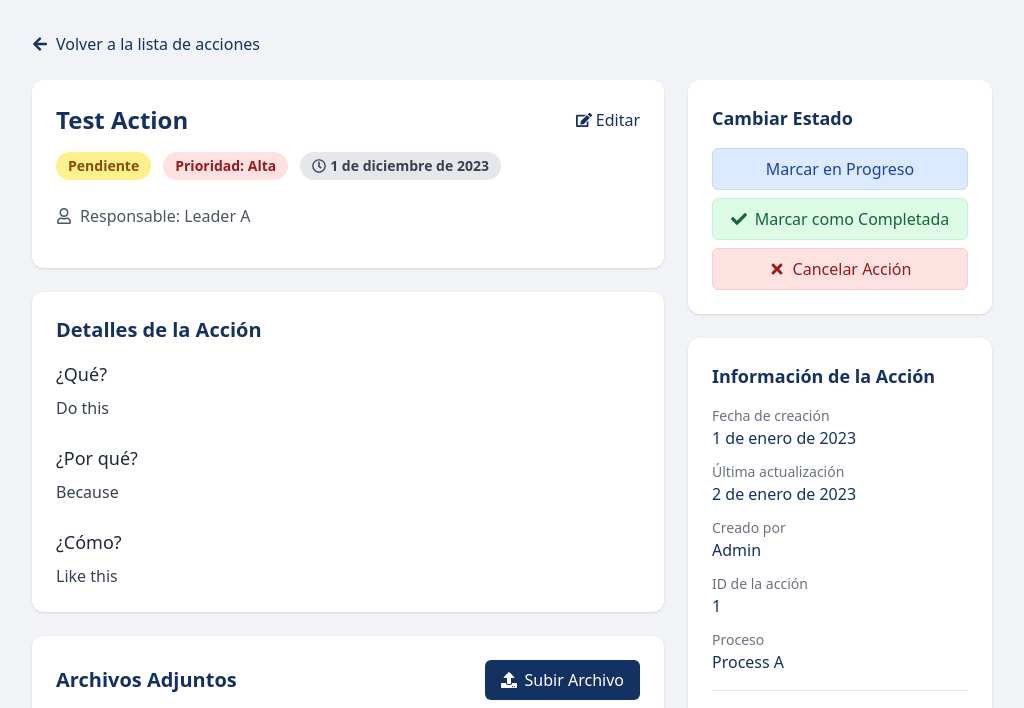
Scenario: ActionDetail › should toggle edit mode and save changes
Expected: the heading "Test Action" is shown, [56,104,188,136]
Note: Enter edit mode
Click the button "Editar".
click(608, 120)  # box [576,108,640,132]
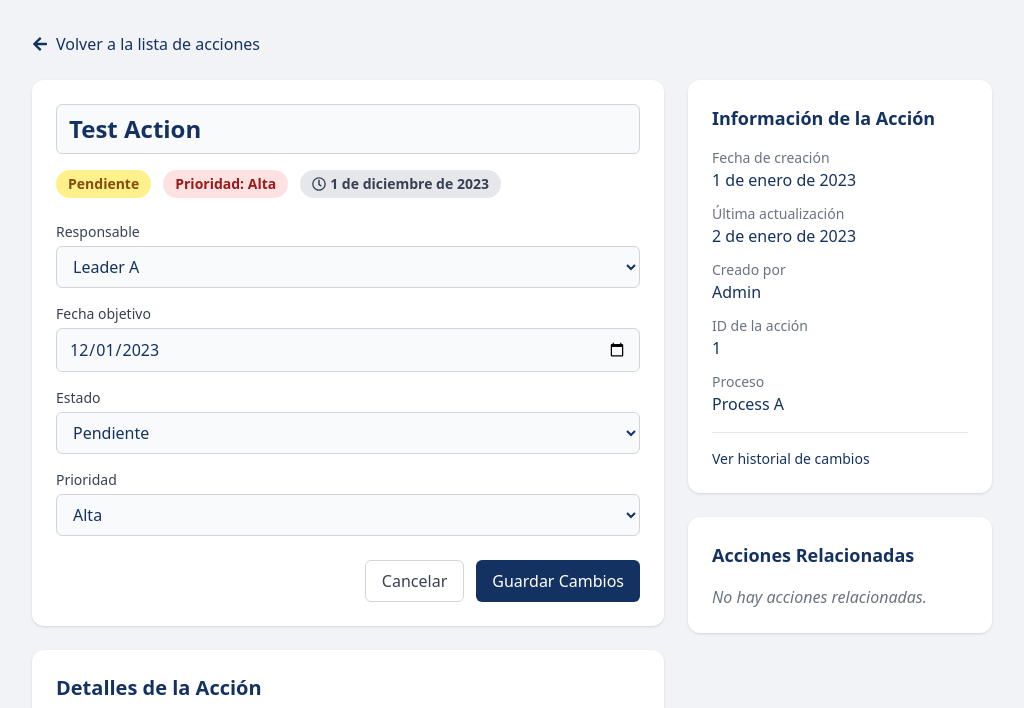
Replace the text in the field showing "Test Action" with "Updated Action" at (348, 129), box [56,104,640,154]
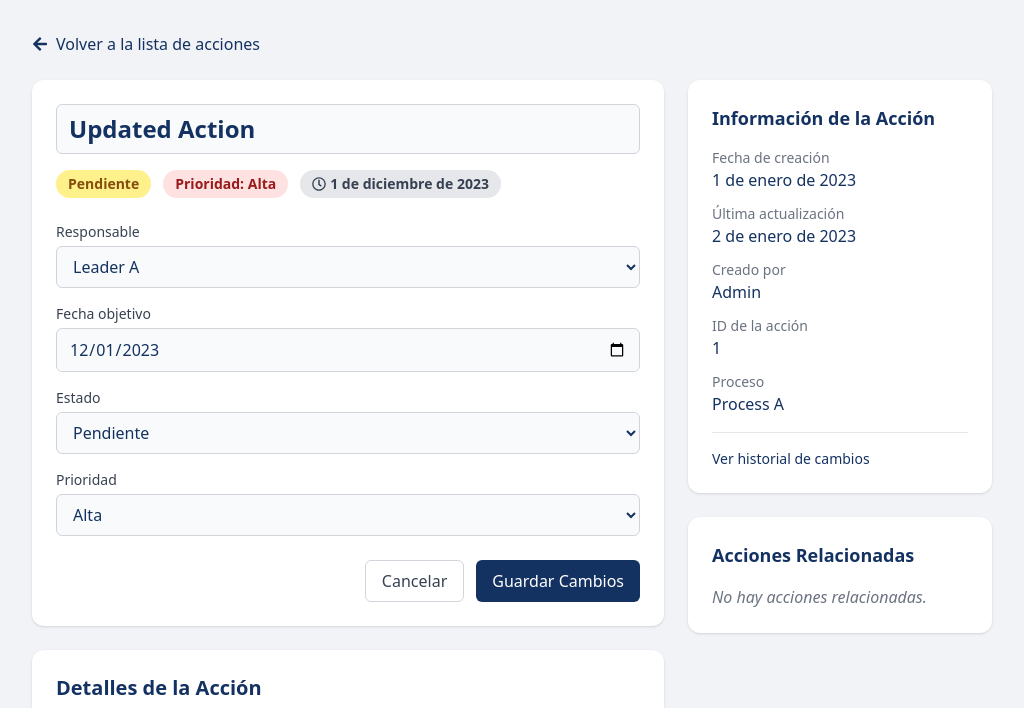
Note: Save changes
Click the button "Guardar Cambios".
click(558, 581)  # box [476,560,640,602]
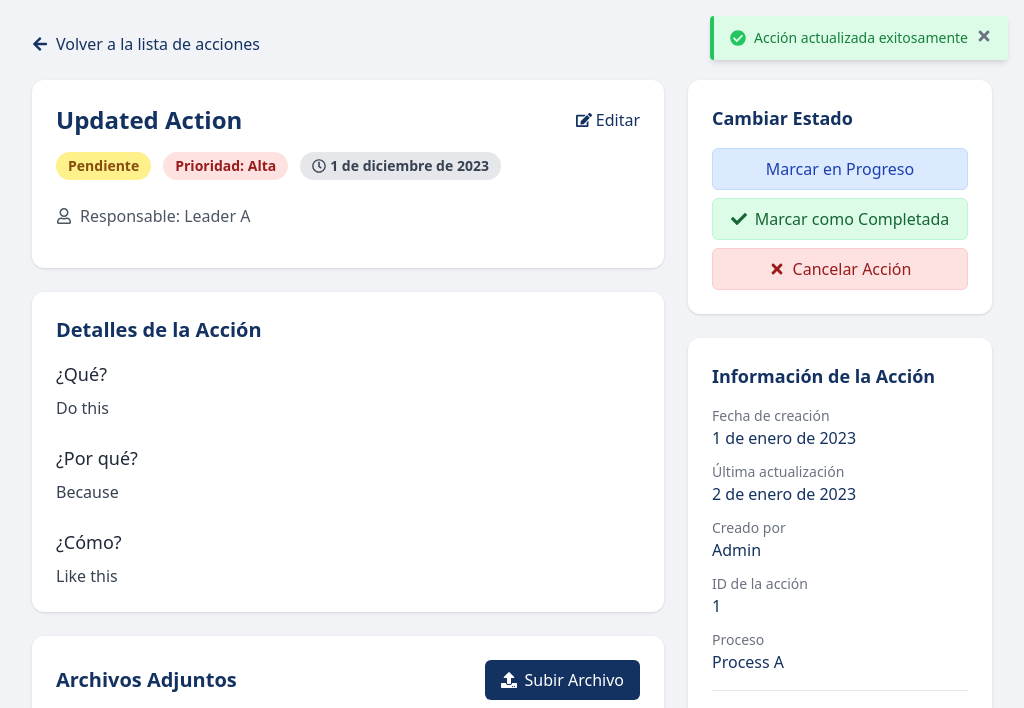
Expected: the heading "Updated Action" is shown, [56,104,242,136]
